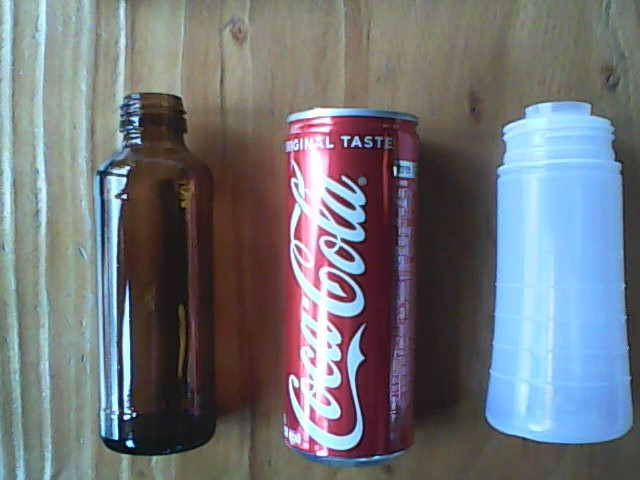Can: (280, 107, 422, 467)
Glass: (89, 88, 221, 465)
Plastic: (481, 100, 639, 445)
